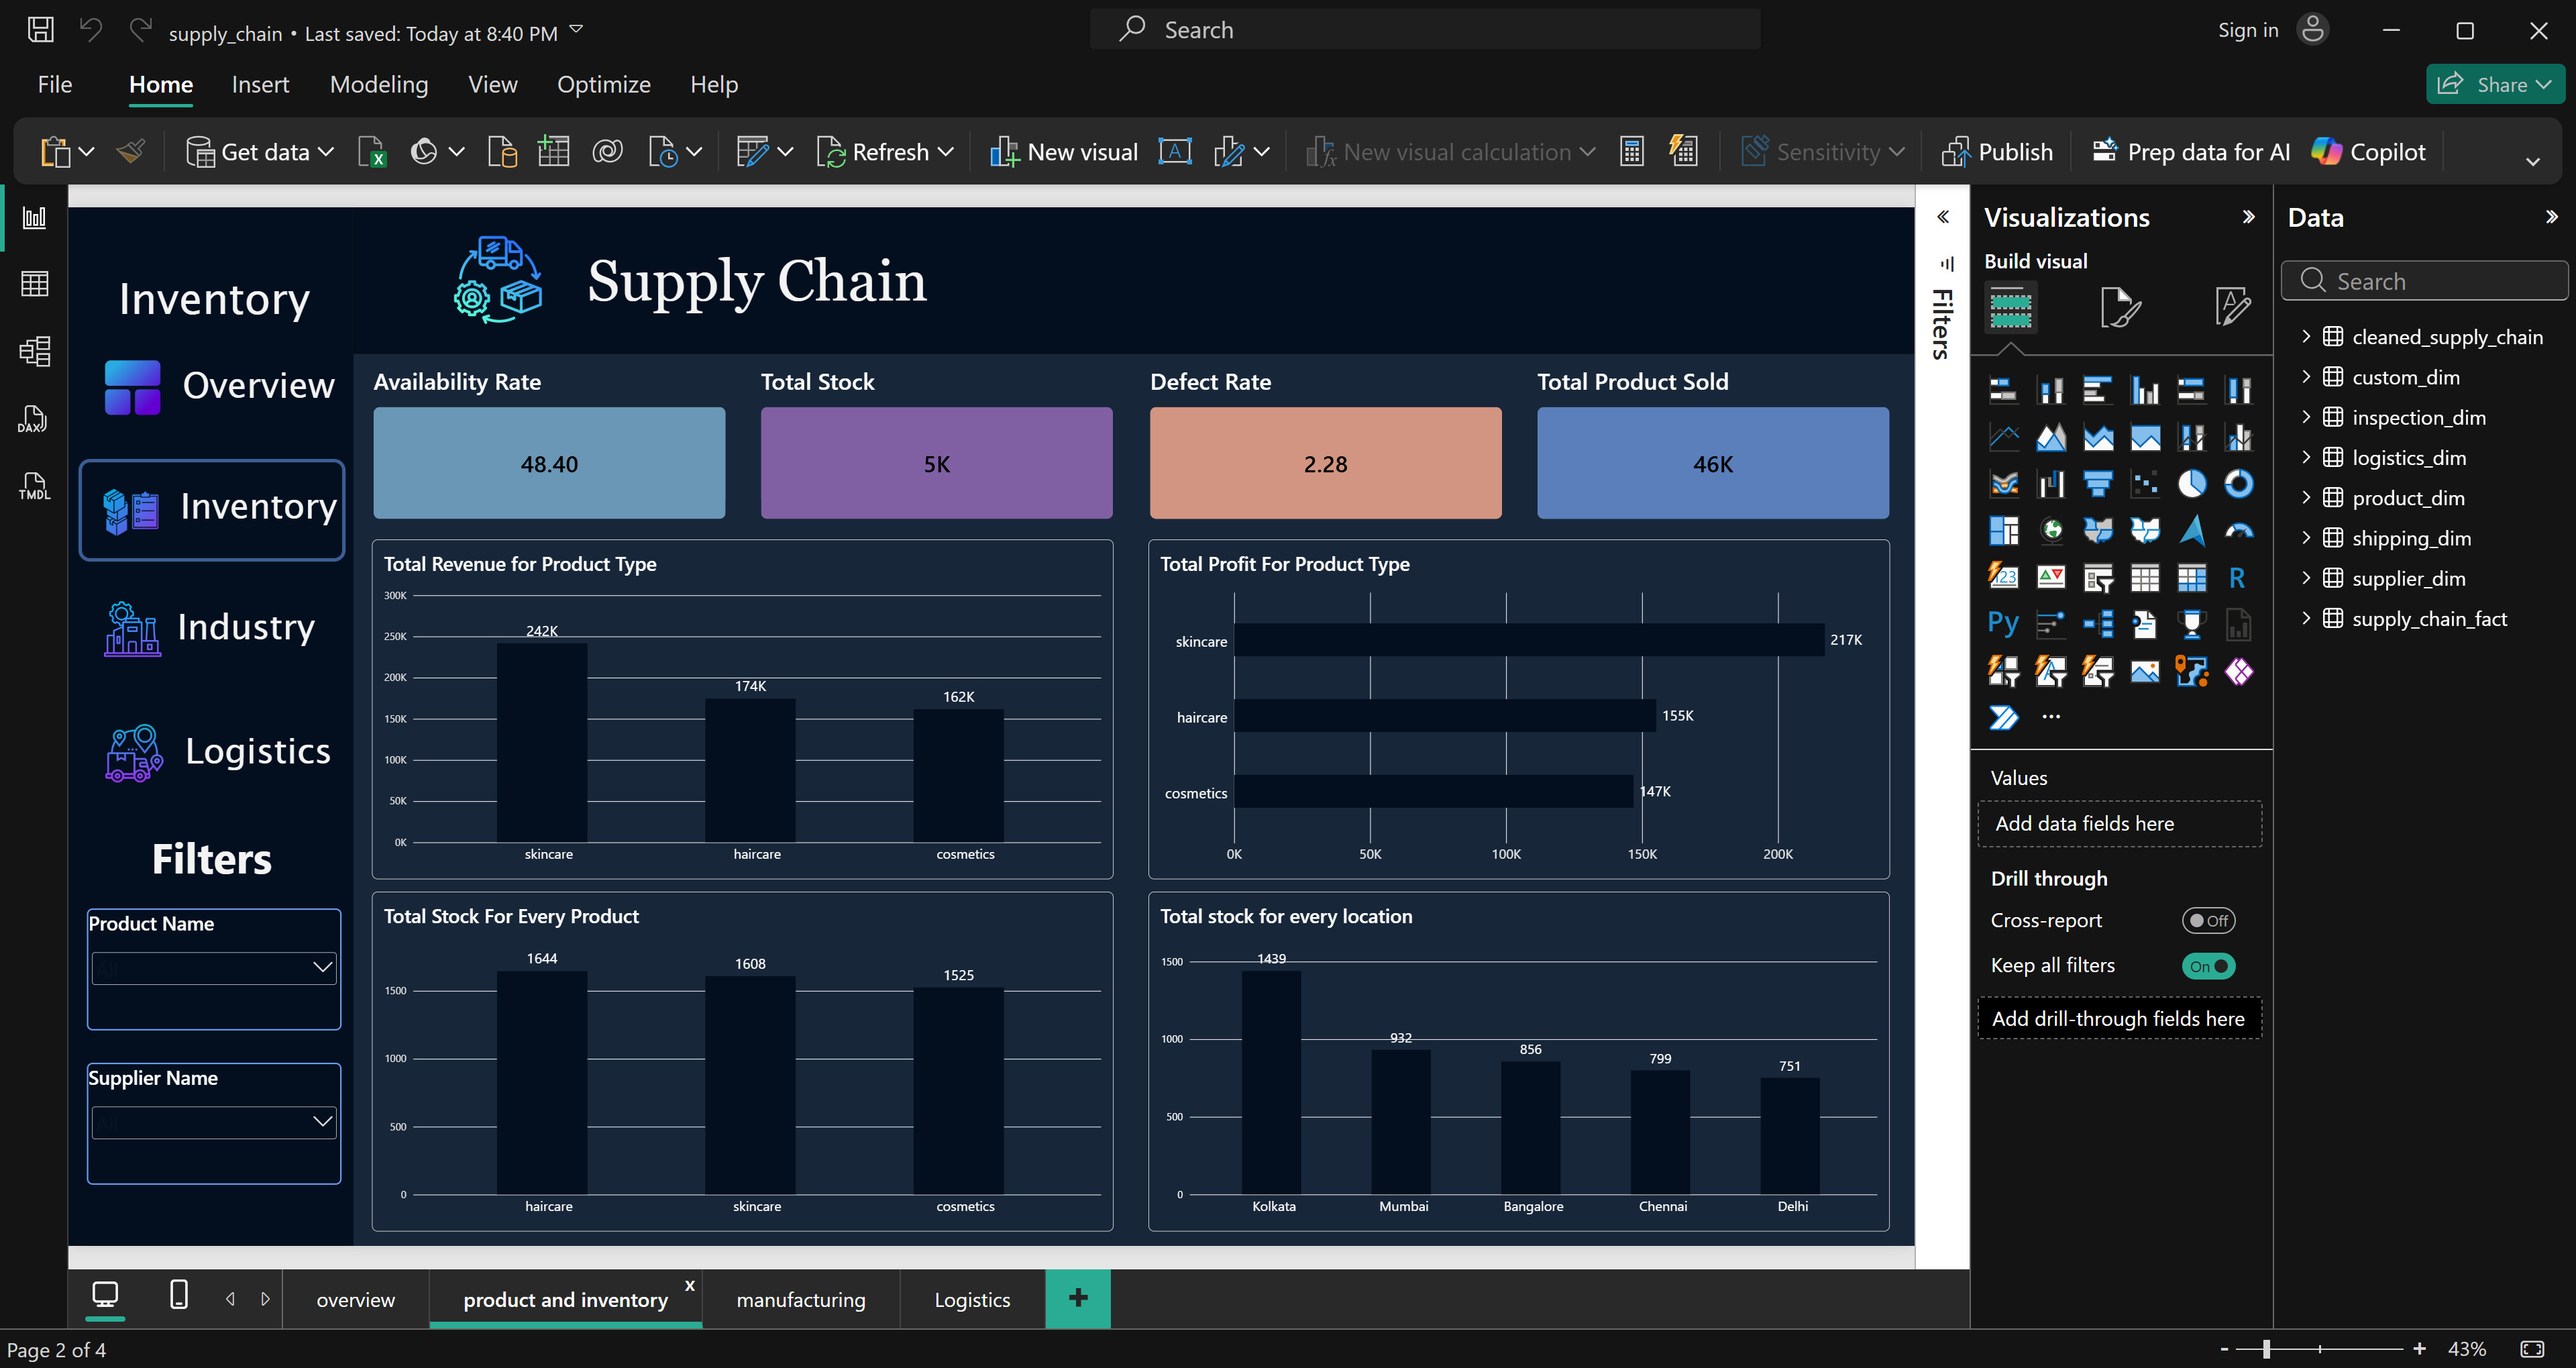

What the dashboard file says about the page in this screenshot:
{"tool":"powerbi","page":{"name":"product and inventory","canvas":[2560,1440],"ordinal":1},"visuals":[{"type":"shape","box":[0,0,395.2,1440.8],"z":0},{"type":"shape","box":[395.2,0,2165.4,203.1],"z":1000},{"type":"image","box":[511.5,38.4,168.1,122.5],"z":2000},{"type":"textbox","box":[698.8,55.2,516.3,105.7],"z":3000},{"type":"cardVisual","title":"Availability Rate","fields":{"Data":["Avg(supply_chain_fact.availability)"]},"box":[423,217.6,488.4,214],"z":4000},{"type":"cardVisual","title":"Total Stock","fields":{"Data":["Sum(cleaned_supply_chain.stock)"]},"box":[960.9,217.6,488.4,214],"z":5000},{"type":"cardVisual","title":"Defect Rate","fields":{"Data":["cleaned_supply_chain.Defect Rate"]},"box":[1498.9,217.6,488.4,214],"z":6000},{"type":"cardVisual","title":"Total Product Sold","fields":{"Data":["Sum(supply_chain_fact.number_of_products_sold)"]},"box":[2036.8,218.4,488.4,214],"z":7000},{"type":"clusteredColumnChart","title":"Total Revenue for Product Type","fields":{"Category":["product_dim.product_name"],"Y":["Sum(supply_chain_fact.revenue)"]},"box":[422.1,461.4,1028.2,471.2],"z":8000},{"type":"clusteredBarChart","title":"Total Profit For Product Type","fields":{"Category":["product_dim.product_name"],"Y":["Sum(supply_chain_fact.estimated_profit)"]},"box":[1496.9,461.4,1028.2,471.2],"z":9000},{"type":"clusteredColumnChart","title":"Total Stock For Every Product","fields":{"Category":["product_dim.product_name"],"Y":["Sum(supply_chain_fact.stock)"]},"box":[422.1,949.7,1028.2,471.2],"z":10000},{"type":"clusteredColumnChart","title":"Total stock for every location","fields":{"Category":["logistics_dim.location"],"Y":["Sum(supply_chain_fact.stock)"]},"box":[1496.9,949.7,1028,471],"z":11000},{"type":"textbox","box":[24.5,83.4,353.4,127.6],"z":12000},{"type":"image","box":[49.1,206.1,81,85.9],"z":13000},{"type":"textbox","box":[132.5,211,262.6,81],"z":14000},{"type":"image","box":[49.1,382.8,76.1,78.5],"z":15000},{"type":"textbox","box":[132.5,377.9,262.6,81],"z":16000},{"type":"image","box":[49.1,542.3,81,85.9],"z":17000},{"type":"textbox","box":[130.1,547.2,262.6,81],"z":18000},{"type":"image","box":[51.5,714.1,81,85.9],"z":19000},{"type":"textbox","box":[132.5,719,262.6,81],"z":20000},{"type":"shape","box":[14.7,348.5,370.6,142.3],"z":21000},{"type":"textbox","box":[49.1,861.4,299.4,88.3],"z":22000},{"type":"slicer","title":"Product Name","fields":{"Values":["product_dim.product_name"]},"box":[24.5,971.8,353.4,169.3],"z":23000},{"type":"slicer","title":"Supplier Name","fields":{"Values":["supplier_dim.supplier_name"]},"box":[24.5,1185.3,353.4,169.3],"z":24000}]}

Visuals, with their boxes on the page's 2560x1440 design canvas (x1, y1, x2, y2). These are canvas units, not pixel positions in the 2576x1368 screenshot, which may show the page scaled, cropped or inside an application window:
shape: pyautogui.locateOnScreen(0, 0, 395, 1441)
shape: pyautogui.locateOnScreen(395, 0, 2561, 203)
image: pyautogui.locateOnScreen(512, 38, 680, 161)
textbox: pyautogui.locateOnScreen(699, 55, 1215, 161)
"Availability Rate" cardVisual: pyautogui.locateOnScreen(423, 218, 911, 432)
"Total Stock" cardVisual: pyautogui.locateOnScreen(961, 218, 1449, 432)
"Defect Rate" cardVisual: pyautogui.locateOnScreen(1499, 218, 1987, 432)
"Total Product Sold" cardVisual: pyautogui.locateOnScreen(2037, 218, 2525, 432)
"Total Revenue for Product Type" clusteredColumnChart: pyautogui.locateOnScreen(422, 461, 1450, 933)
"Total Profit For Product Type" clusteredBarChart: pyautogui.locateOnScreen(1497, 461, 2525, 933)
"Total Stock For Every Product" clusteredColumnChart: pyautogui.locateOnScreen(422, 950, 1450, 1421)
"Total stock for every location" clusteredColumnChart: pyautogui.locateOnScreen(1497, 950, 2525, 1421)
textbox: pyautogui.locateOnScreen(24, 83, 378, 211)
image: pyautogui.locateOnScreen(49, 206, 130, 292)
textbox: pyautogui.locateOnScreen(132, 211, 395, 292)
image: pyautogui.locateOnScreen(49, 383, 125, 461)
textbox: pyautogui.locateOnScreen(132, 378, 395, 459)
image: pyautogui.locateOnScreen(49, 542, 130, 628)
textbox: pyautogui.locateOnScreen(130, 547, 393, 628)
image: pyautogui.locateOnScreen(52, 714, 132, 800)
textbox: pyautogui.locateOnScreen(132, 719, 395, 800)
shape: pyautogui.locateOnScreen(15, 348, 385, 491)
textbox: pyautogui.locateOnScreen(49, 861, 348, 950)
"Product Name" slicer: pyautogui.locateOnScreen(24, 972, 378, 1141)
"Supplier Name" slicer: pyautogui.locateOnScreen(24, 1185, 378, 1355)
